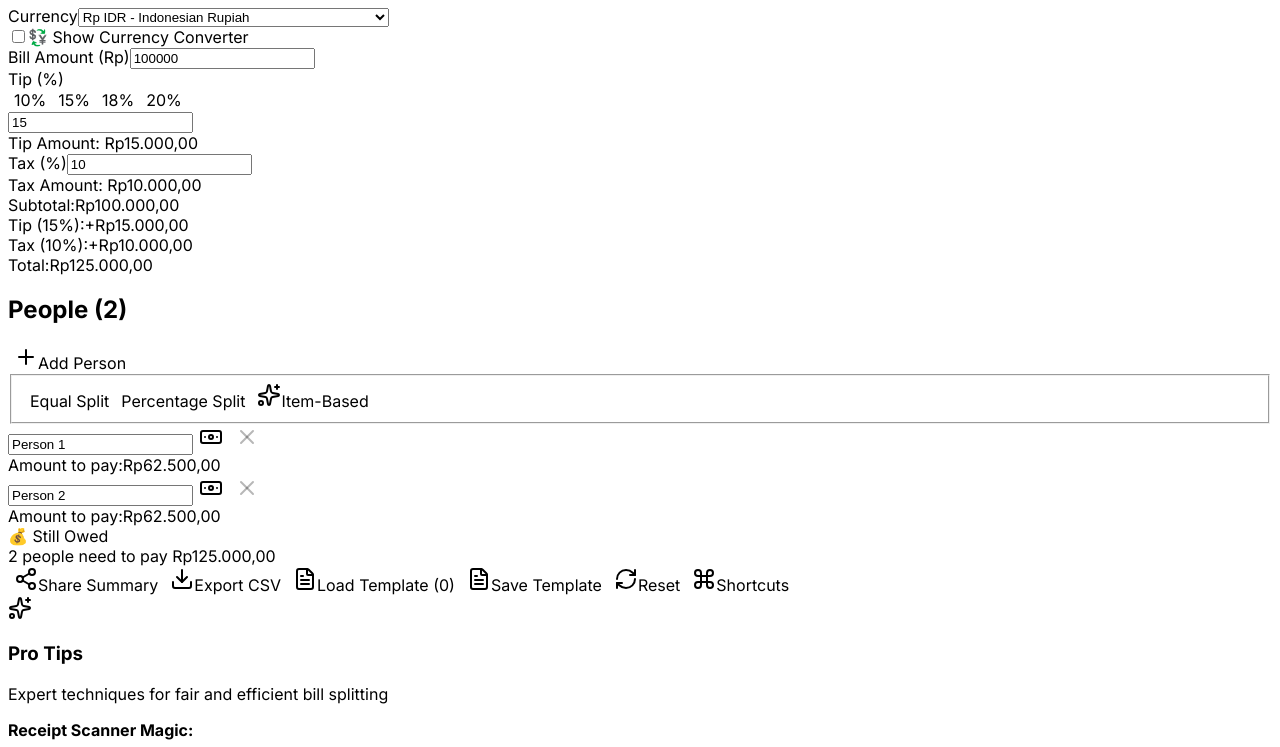
Test: Split Bill Calculator Page › Percentage Split Mode › should warn when percentages do not total 100%
(page scrolled)
Click the button "Percentage Split": {"x": 183, "y": 400} [115,390,251,412]
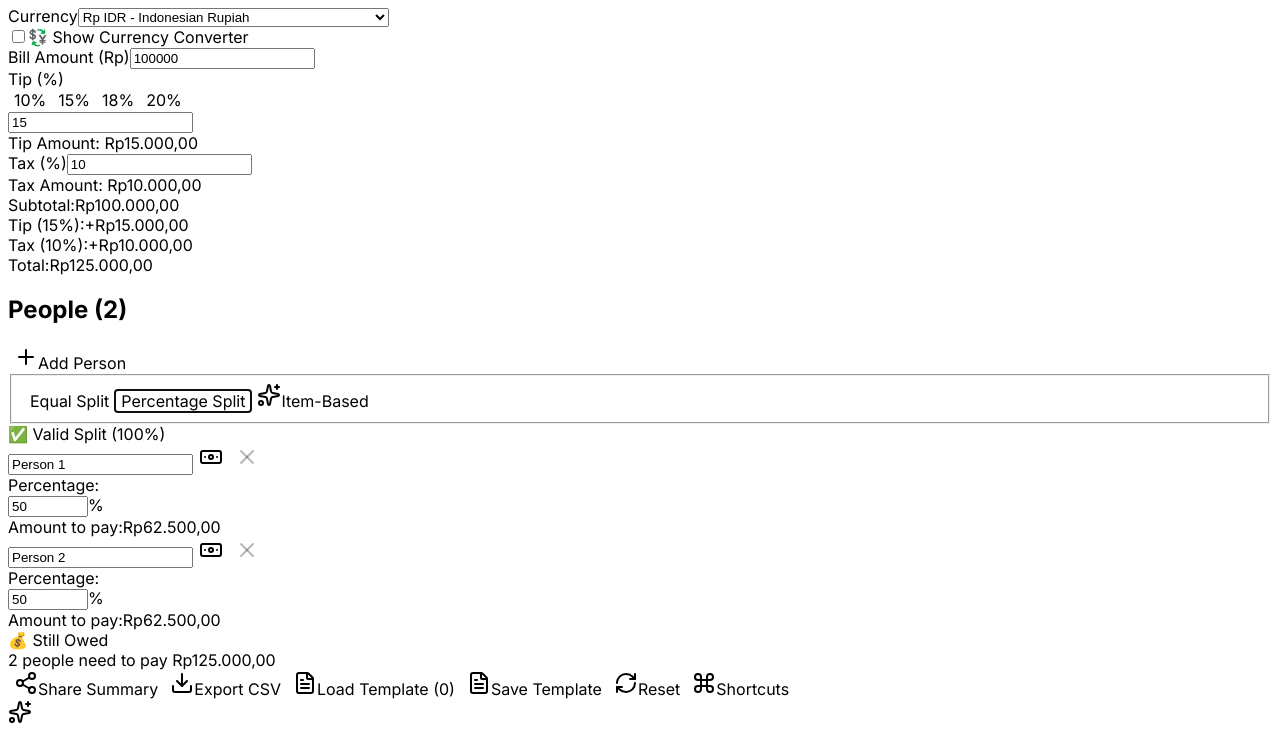
Check: the 1st number field showing "50" is shown
Replace the text in the 1st number field showing "50" with "60": {"x": 48, "y": 506} [8,496,88,516]
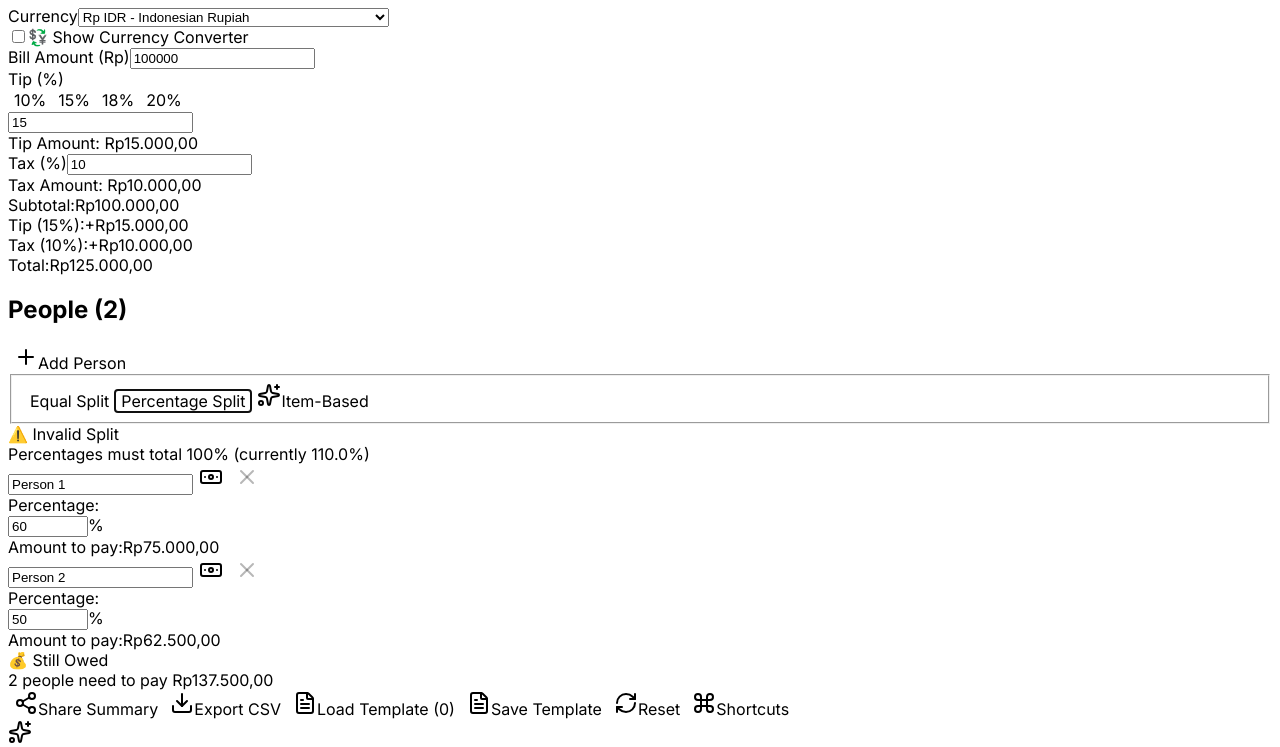
Check: the text "⚠️ Invalid Split" is shown, box [8,424,119,444]
